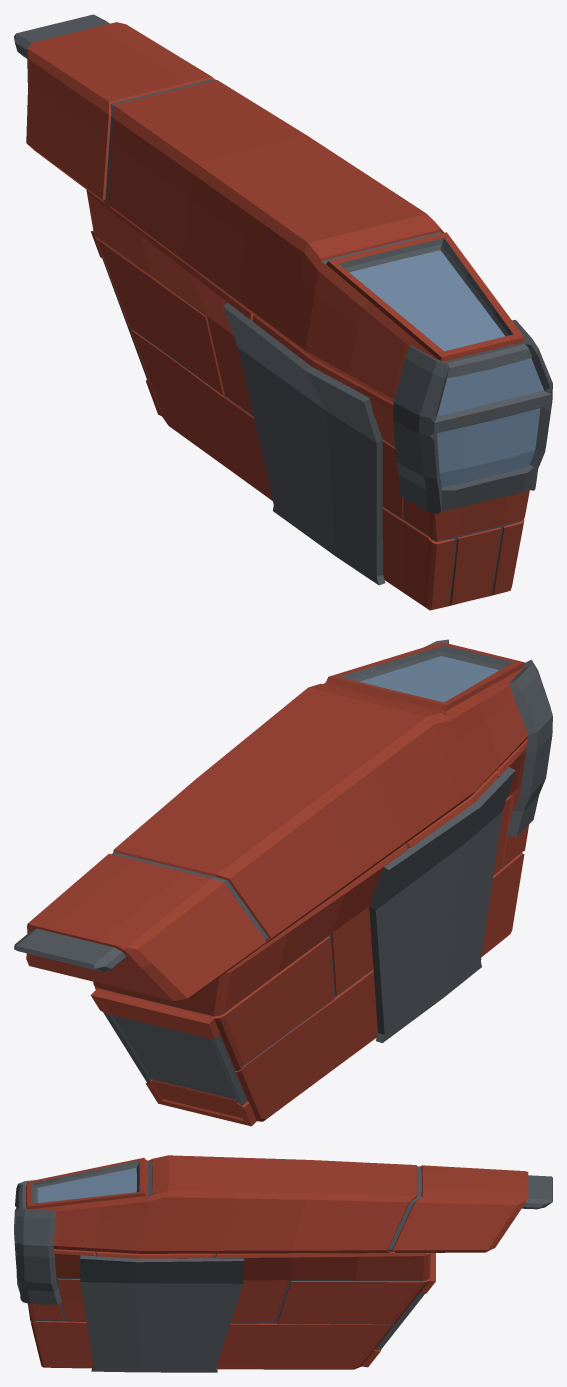
File: Fighter_05_Body_Red.fbx
3 renders of one model, top to bottom at view 1: azimuth 30°, elevation 25°; view 2: azimuth 150°, elevation 25°; view 3: azimuth 270°, elevation 25°, orthographic. The views are drawn at different scales.
Parts seen in each view (by area): view 1: Fighter_05_Body_Red; view 2: Fighter_05_Body_Red; view 3: Fighter_05_Body_Red.
Boxes of the visible parts, x1,y1,x2,y2 form: Fighter_05_Body_Red: [14, 14, 552, 610]; Fighter_05_Body_Red: [14, 639, 552, 1126]; Fighter_05_Body_Red: [14, 1155, 552, 1372].
Bounding box in the file's own units: 398 × 652 × 1740.
2 materials, 2 textured.
